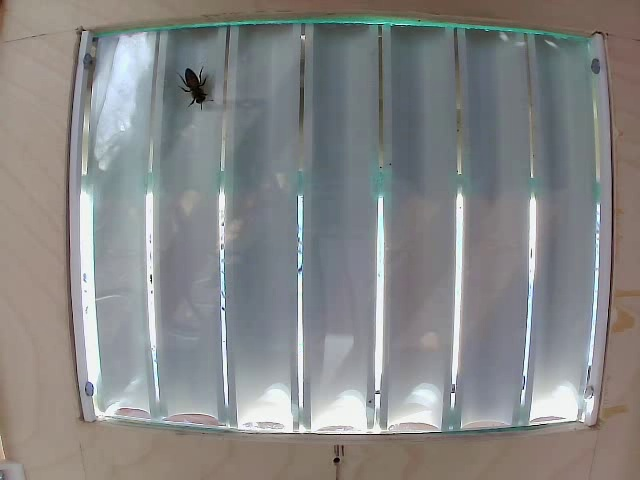bee: (186, 63, 219, 117)
